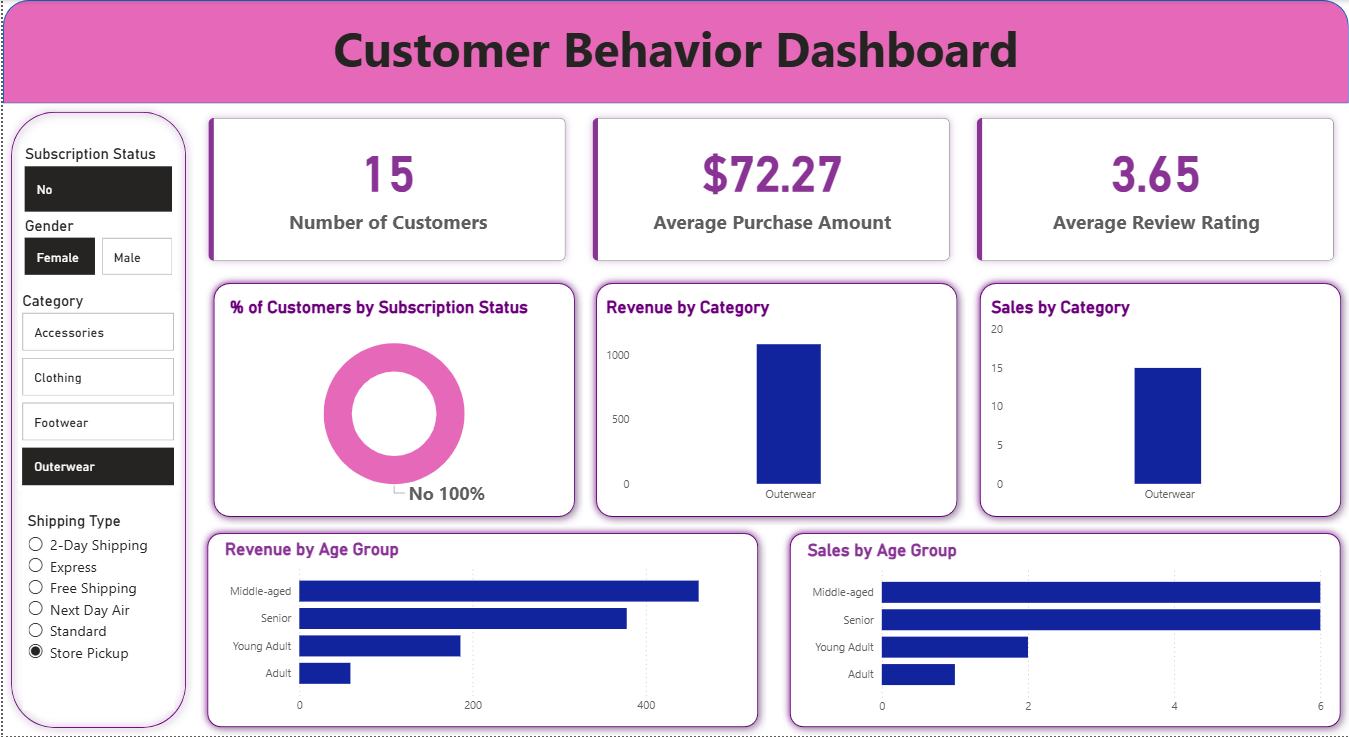

What the dashboard file says about the page in this screenshot:
{"tool":"powerbi","page":{"name":"Page 1","canvas":[1500,820],"ordinal":0},"visuals":[{"type":"cardVisual","fields":{"Data":["public customer.Number of Customers","public customer.Average Purchase Amount","public customer.Average Review Rating"]},"box":[212.9,115.3,1286.5,191.6],"z":2000},{"type":"shape","box":[218.3,585.6,631.7,234.2],"z":2500,"group":"g1"},{"type":"shape","box":[0,0,1499.4,115.3],"z":3000},{"type":"textbox","box":[0,12.4,1499.4,102.9],"z":4000},{"type":"shape","box":[225.4,307,420.5,278.6],"z":5000},{"type":"donutChart","title":"% of Customers by Subscription Status","fields":{"Category":["public customer.subscription_status"],"Y":["CountNonNull(public customer.customer_id)"]},"box":[248.4,331.8,376.2,237.8],"z":6000},{"type":"shape","box":[1078.9,307,420.5,278.6],"z":7000},{"type":"shape","box":[652.1,307,420.5,278.6],"z":8000},{"type":"clusteredColumnChart","title":"Revenue by Category","fields":{"Y":["Sum(public customer.purchase_amount)"],"Category":["public customer.category"]},"box":[667.2,331.8,385.1,237.8],"z":9000},{"type":"clusteredColumnChart","title":"Sales by Category","fields":{"Y":["CountNonNull(public customer.customer_id)"],"Category":["public customer.category"]},"box":[1096.6,331.8,385.1,237.8],"z":10000},{"type":"shape","box":[0,115.3,212.9,704.5],"z":11000},{"type":"advancedSlicerVisual","fields":{"Values":["public customer.subscription_status"]},"box":[19.5,161.5,174.1,79.4],"z":12000},{"type":"advancedSlicerVisual","fields":{"Values":["public customer.gender"]},"box":[19.5,240.9,174.1,71],"z":13000},{"type":"advancedSlicerVisual","fields":{"Values":["public customer.category"]},"box":[16.7,324.5,179.7,221.4],"z":14000},{"type":"listSlicer","fields":{"Values":["public customer.shipping_type"]},"box":[22.3,569.6,168.5,221.4],"z":15000},{"type":"shape","box":[867.7,585.6,631.7,234.2],"z":16000},{"type":"clusteredBarChart","title":"Sales by Age Group","fields":{"Y":["CountNonNull(public customer.customer_id)"],"Category":["public customer.age_group"]},"box":[890.8,601.5,585.6,204.1],"z":17000},{"type":"clusteredBarChart","title":"Revenue by Age Group","fields":{"Y":["Sum(public customer.purchase_amount)"],"Category":["public customer.age_group"]},"box":[241.4,601.6,585.6,204.1],"z":17500,"group":"g1"},{"type":"group","id":"g1","title":"Group 1","box":[218.3,585.6,631.7,234.2],"z":17501}]}

Visuals, with their boxes in screenshot pixels (x1, y1, x2, y2), scaled from the page's 1500x820 canvas onto the 1349x737 screenshot:
cardVisual - public customer.Number of Customers x public customer.Average Purchase Amount: (191,104,1348,276)
shape: (196,526,764,736)
shape: (0,0,1348,104)
textbox: (0,11,1348,104)
shape: (203,276,581,526)
"% of Customers by Subscription Status" donutChart: (223,298,562,512)
shape: (970,276,1348,526)
shape: (586,276,965,526)
"Revenue by Category" clusteredColumnChart: (600,298,946,512)
"Sales by Category" clusteredColumnChart: (986,298,1333,512)
shape: (0,104,191,736)
advancedSlicerVisual - public customer.subscription_status: (18,145,174,217)
advancedSlicerVisual - public customer.gender: (18,217,174,280)
advancedSlicerVisual - public customer.category: (15,292,177,491)
listSlicer - public customer.shipping_type: (20,512,172,711)
shape: (780,526,1348,736)
"Sales by Age Group" clusteredBarChart: (801,541,1328,724)
"Revenue by Age Group" clusteredBarChart: (217,541,744,724)
"Group 1" group: (196,526,764,736)
